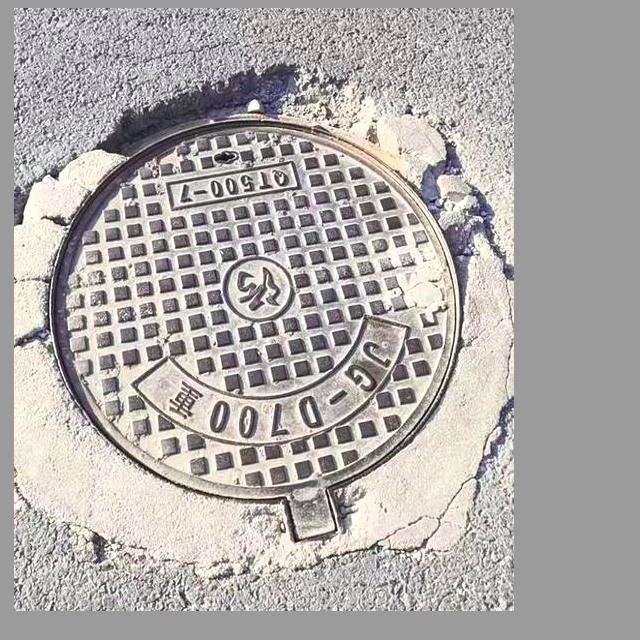circle: (28, 78, 497, 564)
